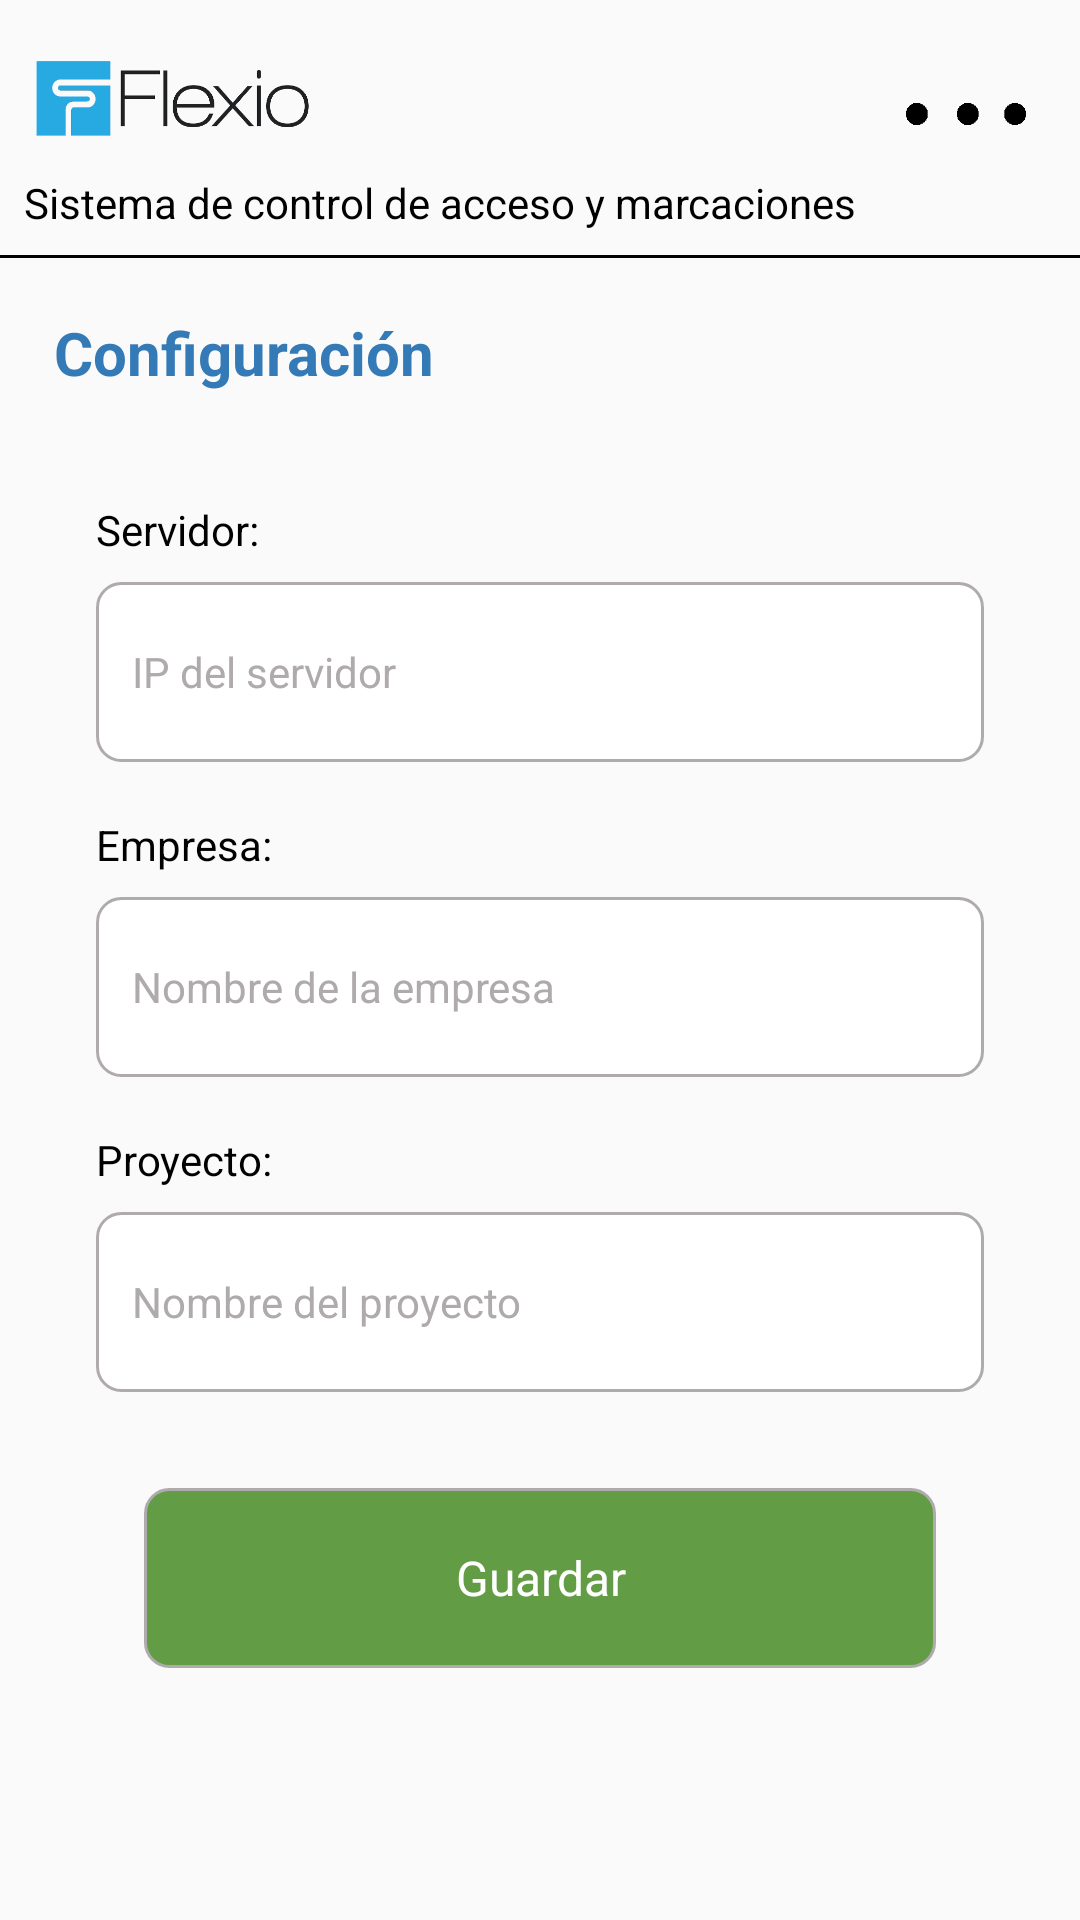

Icon bounding boxes for this 1080 × 1920 phone screenshot, format BBox(x1, y1, x2, y2):
menu: BBox(906, 103, 1026, 125)
